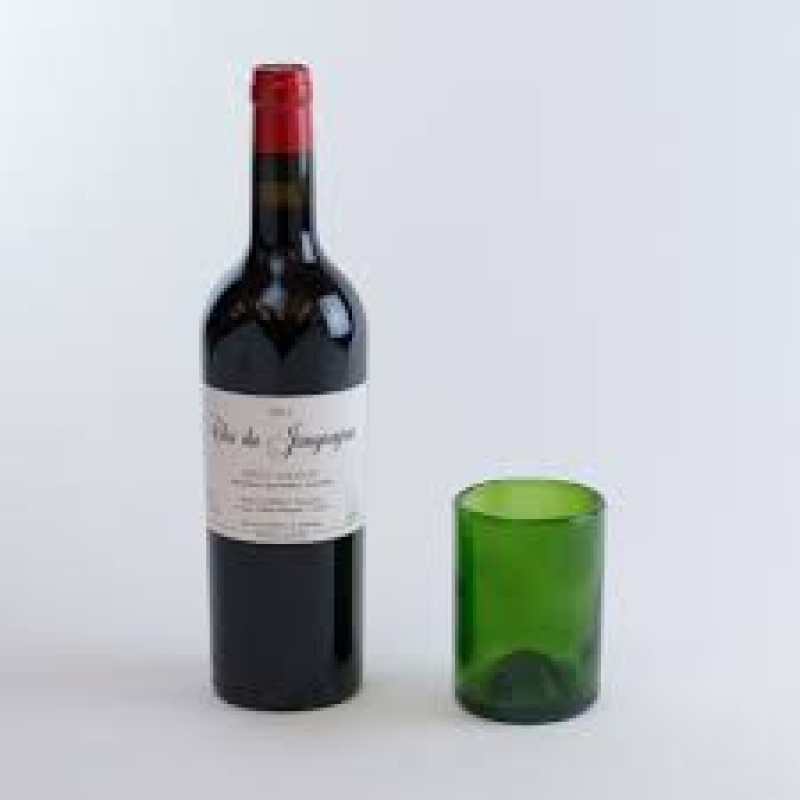wine: (208, 65, 367, 689)
